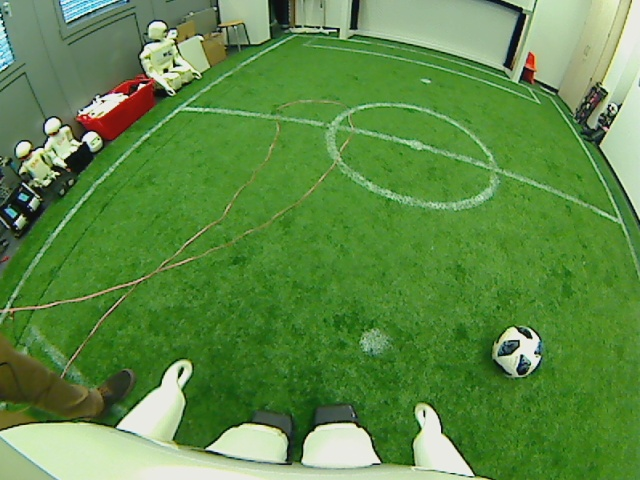ball: (490, 324, 544, 378)
